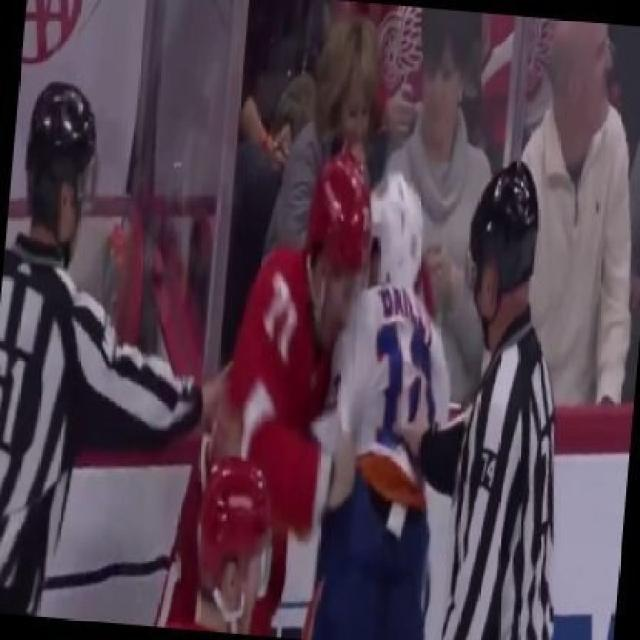fight: (150, 87, 460, 638)
non-fight: (0, 51, 233, 635), (365, 127, 609, 638)
